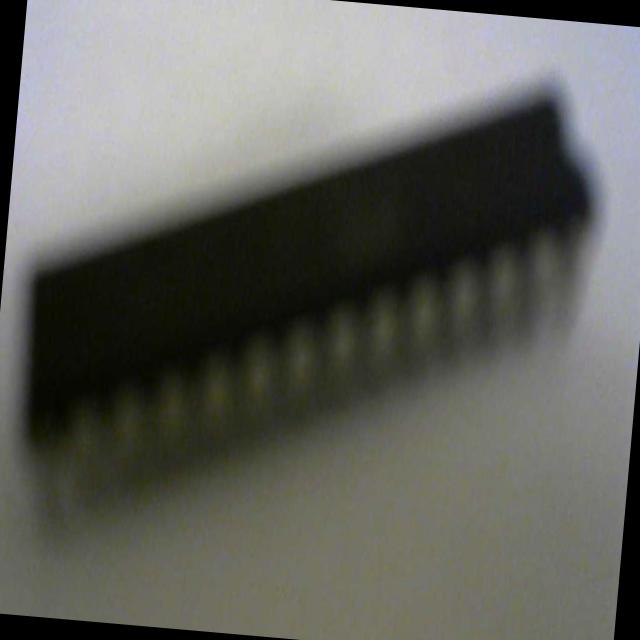atmega: (8, 33, 610, 524)
